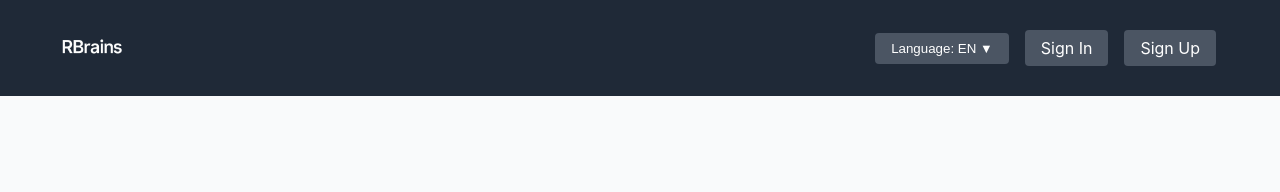
Test: Header › opens and closes language dropdown
Check: the text "RU" is not shown
Click the button "Language: EN ▼" at (942, 48), box [875,32,1009,64]
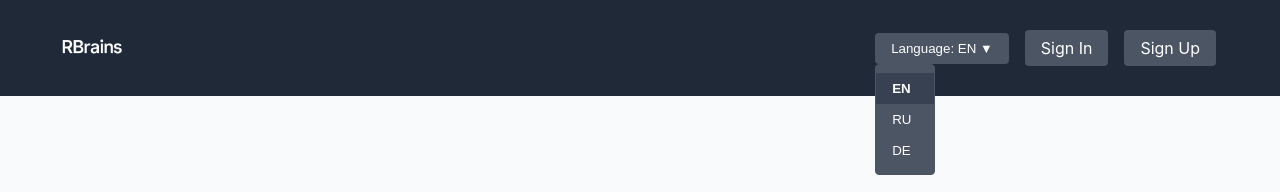
Check: the button "RU" is shown
Check: the button "EN" is shown, box [876,72,934,104]
Click the button "RU" at (905, 119), box [876,104,934,134]
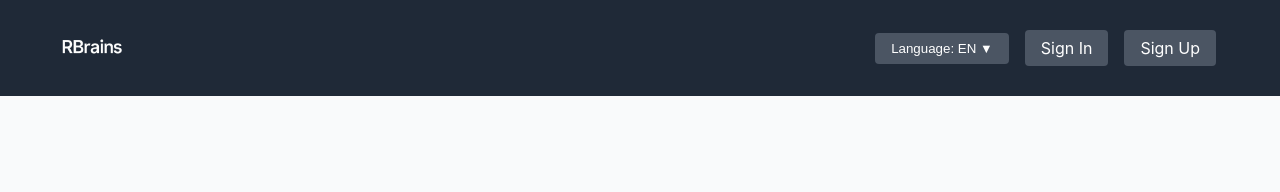
Check: the button "RU" is gone
